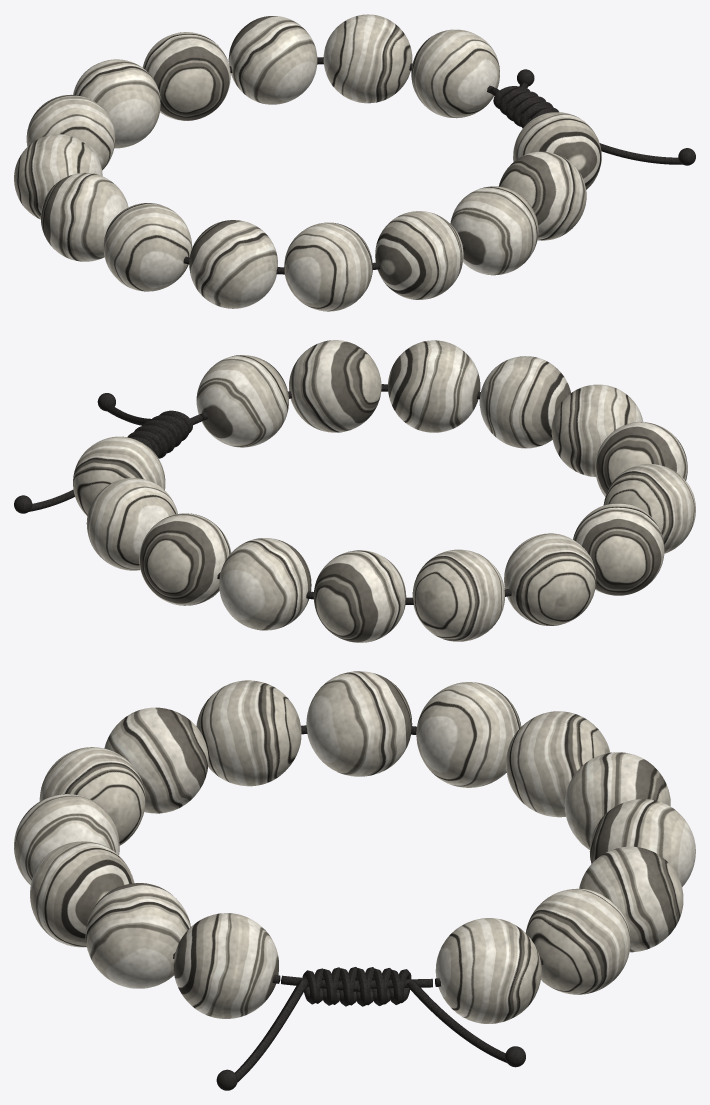
3 renders of one model, top to bottom at view 1: azimuth 30°, elevation 25°; view 2: azimuth 150°, elevation 25°; view 3: azimuth 270°, elevation 25°, orthographic. The views are drawn at different scales.
Visible parts, largest first — view 1: bead_round_0.003, bead_round_1, bead_round_1.003, bead_round_2, bead_round_2.003, bead_round_0, bead_round_2.002, bead_round_0.004, bead_round_0.001, bead_round_1.002, bead_round_1.004, bead_round_1.001 (+4 smaller); view 2: bead_round_1.001, bead_round_1.004, bead_round_2.001, bead_round_0.001, bead_round_0.004, bead_round_0.002, bead_round_2.004, bead_round_2, bead_round_2.003, bead_round_1.002, bead_round_1, bead_round_1.003 (+3 smaller); view 3: bead_round_1.002, bead_round_0, bead_round_2.004, bead_round_2.002, bead_round_0.002, bead_round_1, bead_round_1.004, bead_round_0.003, bead_round_2.001, bead_round_0.004, bead_round_2, bead_round_1.003 (+5 smaller).
Part boxes in pixels (x1,y1,x2,y2): bead_round_0.003: (189,220,277,308); bead_round_1: (323,14,412,103); bead_round_1.003: (284,222,372,311); bead_round_2: (228,16,317,104); bead_round_2.003: (375,211,463,299); bead_round_0: (411,29,499,118); bead_round_2.002: (103,203,192,291); bead_round_0.004: (450,186,538,275); bead_round_0.001: (142,32,230,120); bead_round_1.002: (40,172,128,261); bead_round_1.004: (498,151,586,240); bead_round_1.001: (73,59,160,148); bead_round_1.001: (313,550,406,642); bead_round_1.004: (289,340,381,432); bead_round_2.001: (412,549,504,641); bead_round_0.001: (219,538,311,630); bead_round_0.004: (388,340,480,432); bead_round_0.002: (504,533,596,625); bead_round_2.004: (196,355,288,447); bead_round_2: (139,513,231,605); bead_round_2.003: (479,356,570,448); bead_round_1.002: (573,503,664,595); bead_round_1: (86,478,177,570); bead_round_1.003: (551,384,643,476); bead_round_1.002: (306,671,412,776); bead_round_0: (435,918,541,1023); bead_round_2.004: (173,913,278,1018); bead_round_2.002: (196,680,301,786); bead_round_0.002: (416,682,521,787); bead_round_1: (525,888,630,994); bead_round_1.004: (85,883,190,988); bead_round_0.003: (104,707,208,813); bead_round_2.001: (506,711,610,817); bead_round_0.004: (30,841,134,947); bead_round_2: (579,846,683,952); bead_round_1.003: (39,747,145,845).
Bounding box in the file's own units: 7.7 × 1 × 6.43.
Materials: 4 (4 with a texture image).
